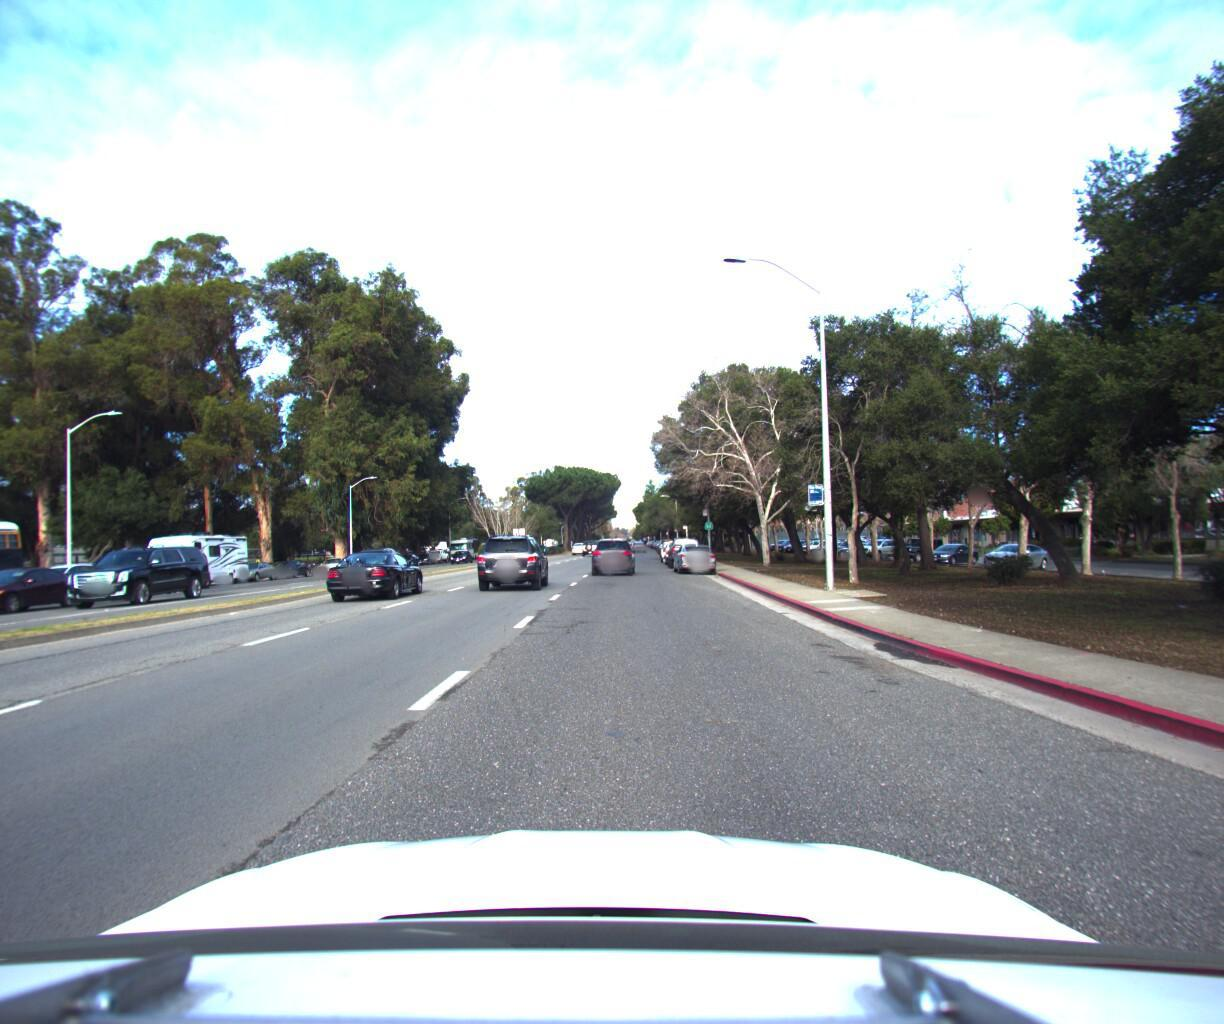car: (54, 534, 219, 604), (318, 540, 428, 600), (470, 523, 552, 590), (11, 552, 118, 599), (589, 529, 637, 570), (670, 532, 719, 569), (226, 550, 285, 577), (666, 526, 707, 563), (314, 545, 361, 569), (270, 550, 319, 573)
other_vehicle: (133, 521, 256, 583)
